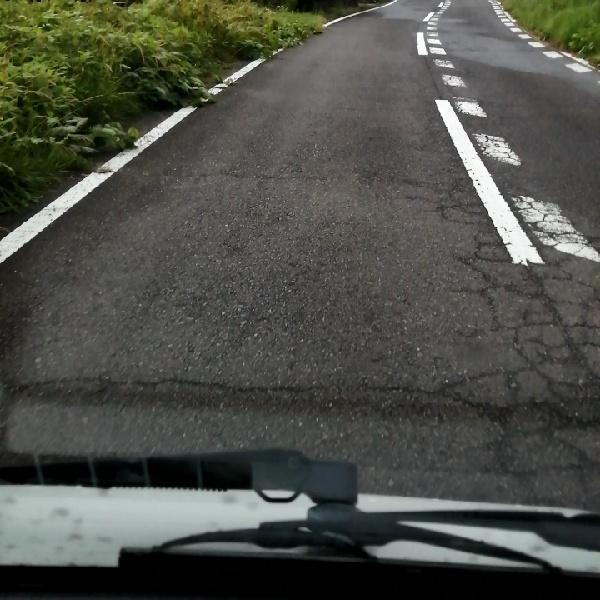D10: (18, 358, 434, 408), (180, 150, 347, 193)
D20: (394, 31, 599, 419)
